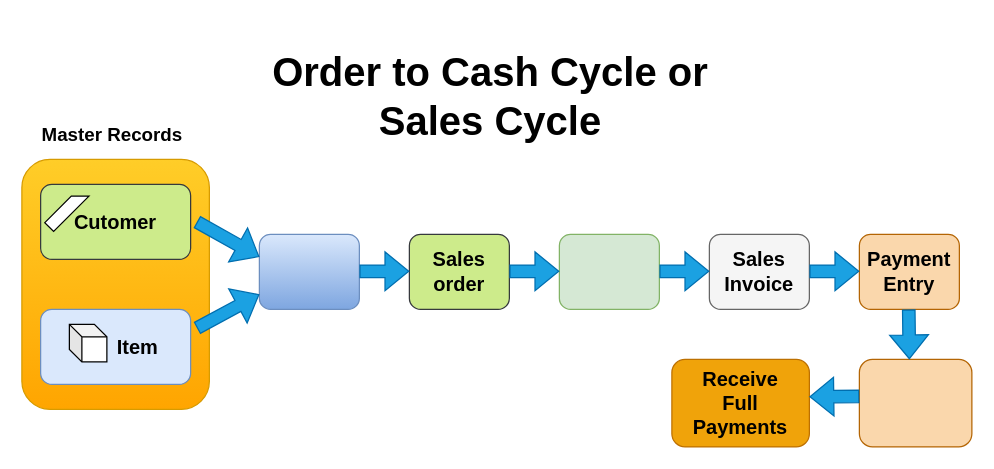
Image size: 994x469. Some labels were removed from this diagram. The shapes that lost their labels are listed below. From the top down, each one's centre as x and y in pixels, then its label:
At (x=308, y=271): "Quotation".
At (x=608, y=271): "Delivery Note".
At (x=915, y=402): "Payments Remiander".
